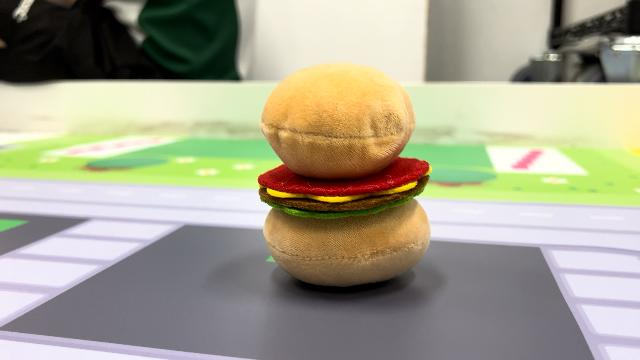burger: (252, 58, 438, 290)
